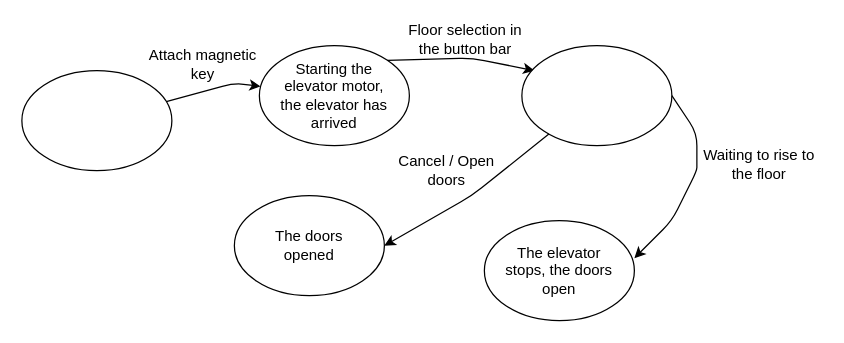
This 844x343 diagram has some shape labels left out. The centre of each missing label's shape, as x and y in pixels:
Processing request, doors are closing: (596,95)
The elevator is inactive: (96,120)
